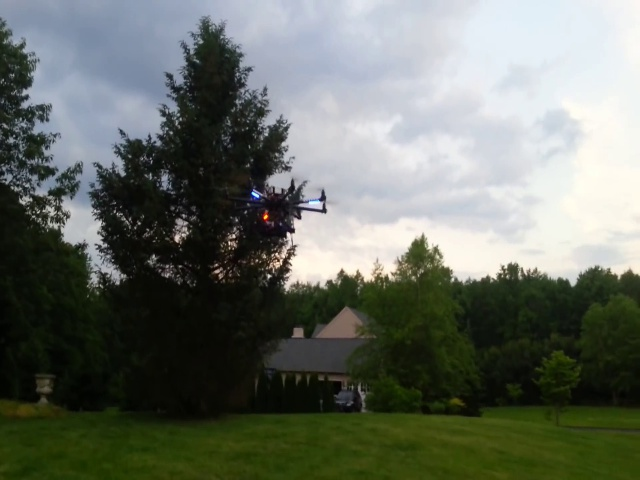drone: (212, 173, 328, 241)
